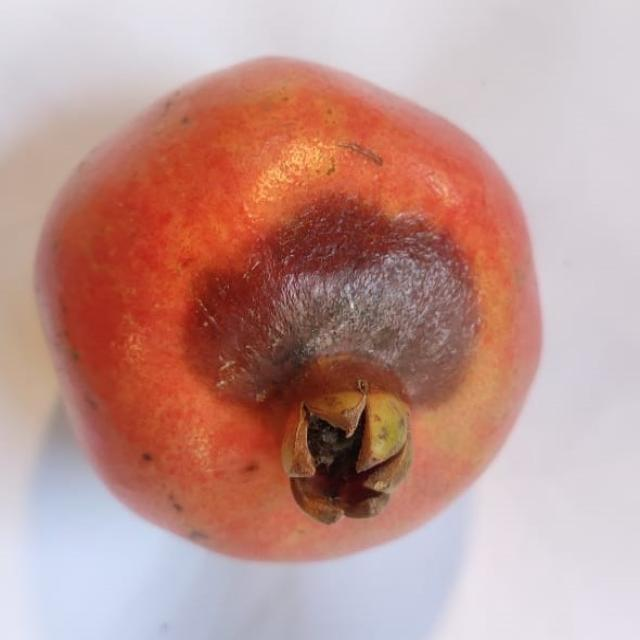Rotten: (31, 48, 548, 566)
